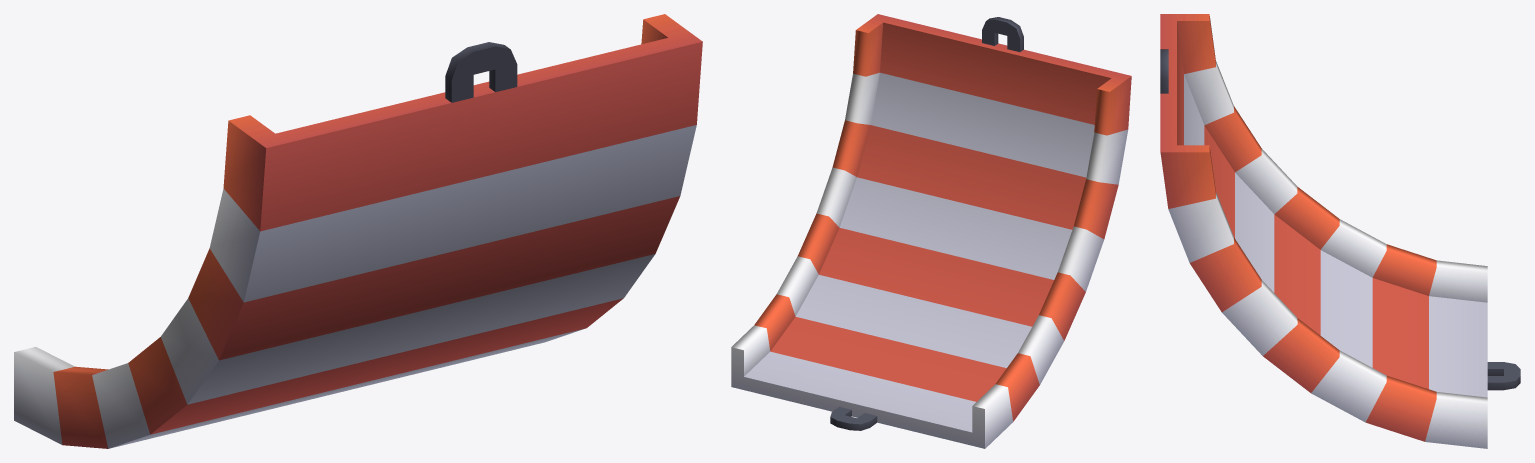
File: kenney-toy-car-track-striped-wide-straight-bend.glb
3 renders of one model, left to right at view 1: azimuth 30°, elevation 25°; view 2: azimuth 150°, elevation 25°; view 3: azimuth 270°, elevation 25°, orthographic. The views are drawn at different scales.
Parts seen in each view (by area): view 1: track-striped-wide-straight-bend; view 2: track-striped-wide-straight-bend; view 3: track-striped-wide-straight-bend.
Boxes of the visible parts, x1,y1,x2,y2 form: track-striped-wide-straight-bend: [14, 14, 702, 448]; track-striped-wide-straight-bend: [731, 14, 1131, 448]; track-striped-wide-straight-bend: [1160, 14, 1520, 448].
Bounding box in the file's own units: 2 × 2.2 × 2.2.
Materials: 1 (1 with a texture image).
